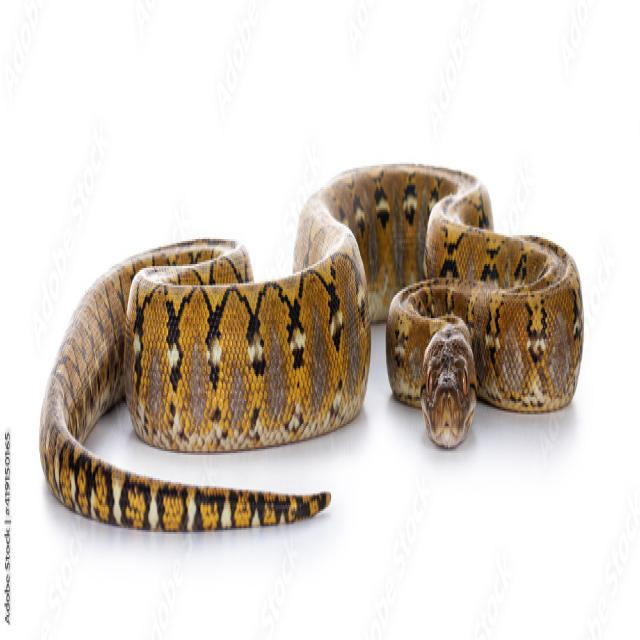Snake: (26, 114, 614, 558)
